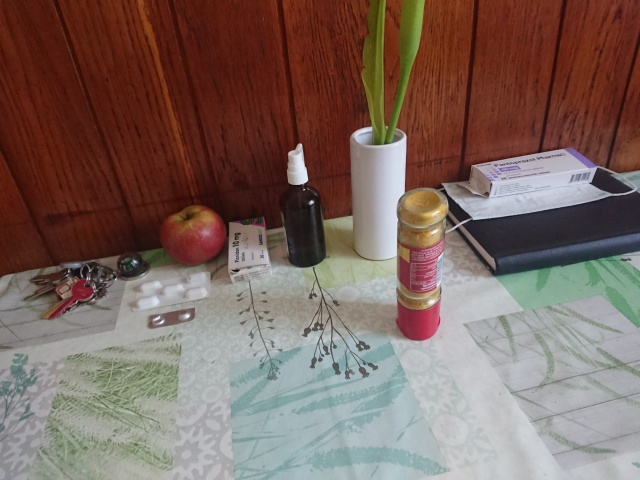Kotanyi Curry Spices Mix 70g: (394, 185, 450, 343)
